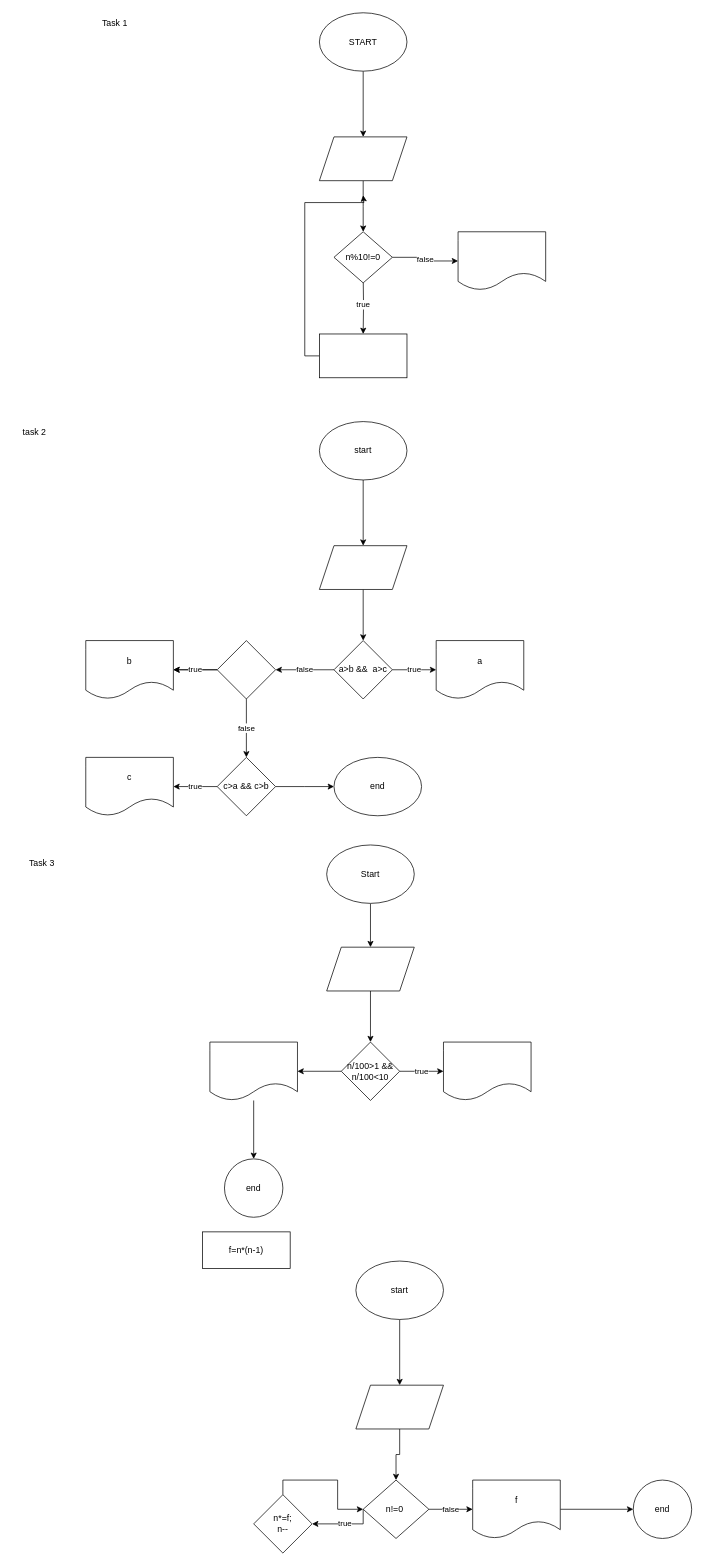
Some shapes in this 704 by 1566 pixel diagram are drawn without their labels. Here are the shapes that lost their labels. From the top down, the centre of each, then its label:
At pixel 363 158: "int n; int sum".
At pixel 501 260: "print (sum)".
At pixel 363 355: "sum =n%10; n/10".
At pixel 363 567: "int a,b,c".
At pixel 246 669: "b>a && b>c".
At pixel 370 968: "int n".
At pixel 253 1070: "(n) 3 reqemli eded deyil".
At pixel 487 1070: "n uc reqemli ededdir".
At pixel 399 1406: "int n int f=1".
